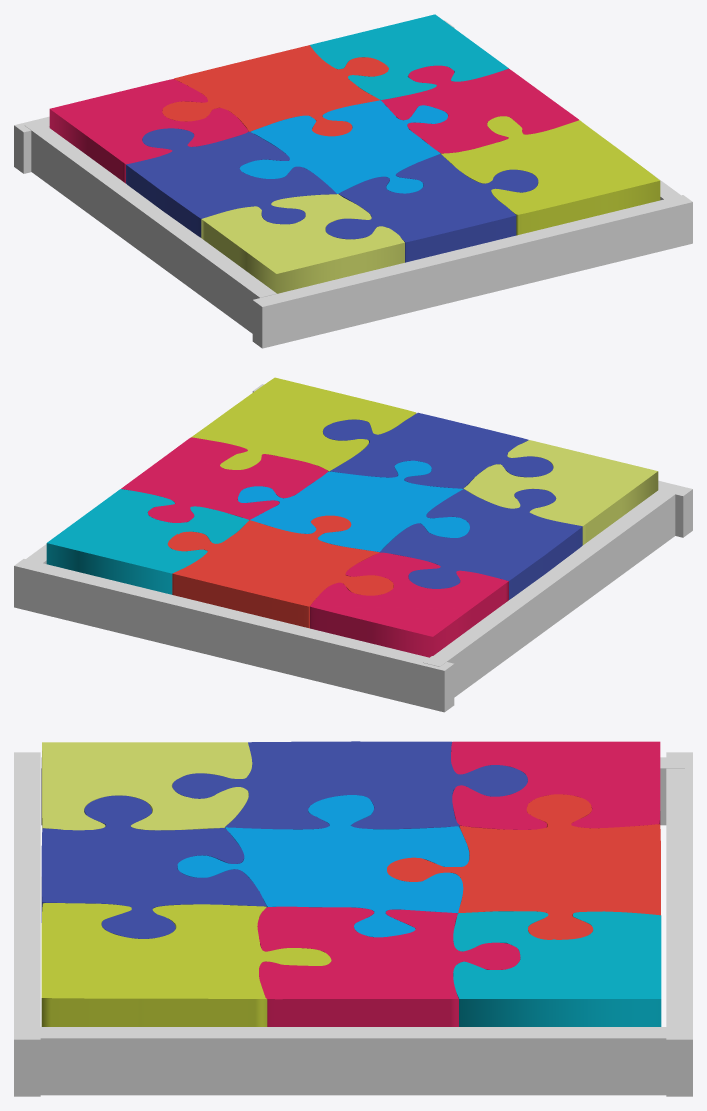
Rendered from fittedPiecesWithBorders.fbx.
The picture shows the model from 3 angles, top to bottom: view 1: azimuth 30°, elevation 25°; view 2: azimuth 150°, elevation 25°; view 3: azimuth 270°, elevation 25°; orthographic projection. The views are drawn at different scales.
Visible parts, largest first — view 1: Cube.001, path80, Cube.002, path3787-1.001, path29, path3927-0, path3737, path3815, path3832, path3871-7, path3858, Cube.004; view 2: Cube.004, path3737, Cube.002, path3832, path3787-1.001, path3858, path80, path3815, path3927-0, path29, path3871-7, Cube.001; view 3: Cube.003, path80, path3871-7, path3858, path3737, path3815, path3787-1.001, path3927-0, path29, path3832, Cube.001, Cube.004 (+1 smaller).
Boxes of the visible parts, box(x1,y1,x2,y2) form: Cube.001: box(252, 195, 692, 348); path80: box(441, 116, 660, 235); Cube.002: box(24, 121, 276, 333); path3787-1.001: box(126, 128, 336, 237); path29: box(201, 194, 404, 293); path3927-0: box(325, 154, 538, 262); path3737: box(162, 45, 388, 136); path3815: box(239, 100, 447, 193); path3832: box(49, 79, 248, 183); path3871-7: box(381, 65, 578, 153); path3858: box(310, 14, 508, 100); Cube.004: box(14, 20, 454, 173); Cube.004: box(14, 559, 454, 712); path3737: box(167, 515, 393, 628); Cube.002: box(423, 490, 675, 697); path3832: box(310, 552, 508, 657); path3787-1.001: box(380, 489, 582, 599); path3858: box(46, 489, 249, 594); path80: box(191, 377, 416, 471); path3815: box(238, 460, 469, 552); path3927-0: box(323, 412, 553, 488); path29: box(463, 440, 658, 545); path3871-7: box(121, 437, 328, 522); Cube.001: box(252, 384, 692, 537); Cube.003: box(39, 1027, 677, 1095); path80: box(41, 903, 331, 1026); path3871-7: box(257, 906, 520, 1026); path3858: box(453, 911, 661, 1026); path3737: box(387, 794, 660, 939); path3815: box(177, 795, 469, 937); path3787-1.001: box(172, 741, 527, 829); path3927-0: box(41, 795, 266, 938); path29: box(42, 742, 252, 830); path3832: box(451, 741, 660, 829); Cube.001: box(14, 752, 40, 1096); Cube.004: box(666, 752, 692, 1096).
Size of the model in its own units: 66.56 by 9.02 by 66.5.
